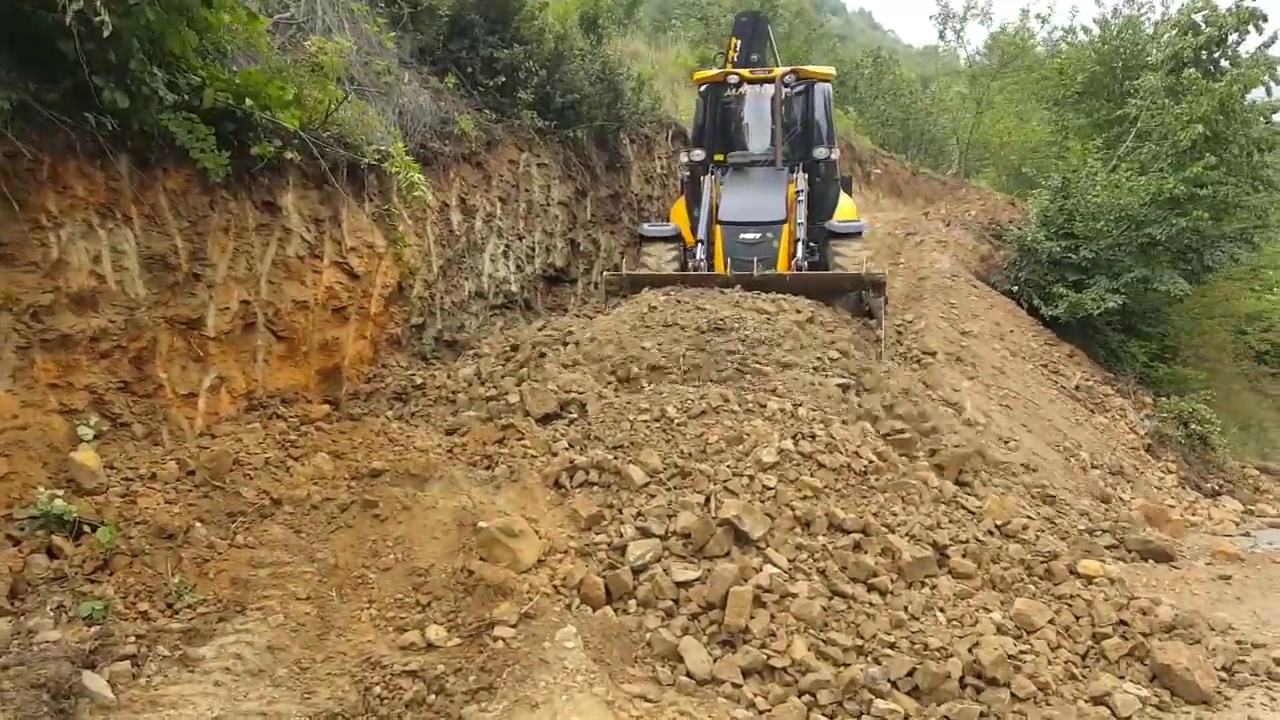wheel loader: (600, 10, 890, 431)
